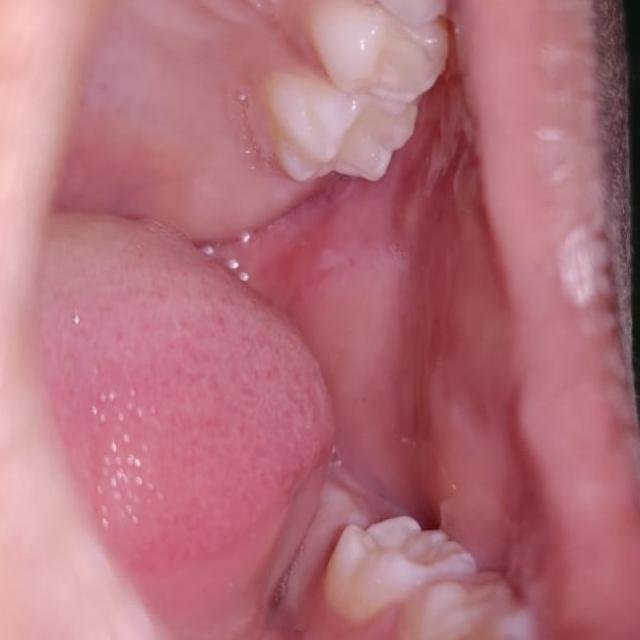No Cancer: (52, 197, 407, 552)
